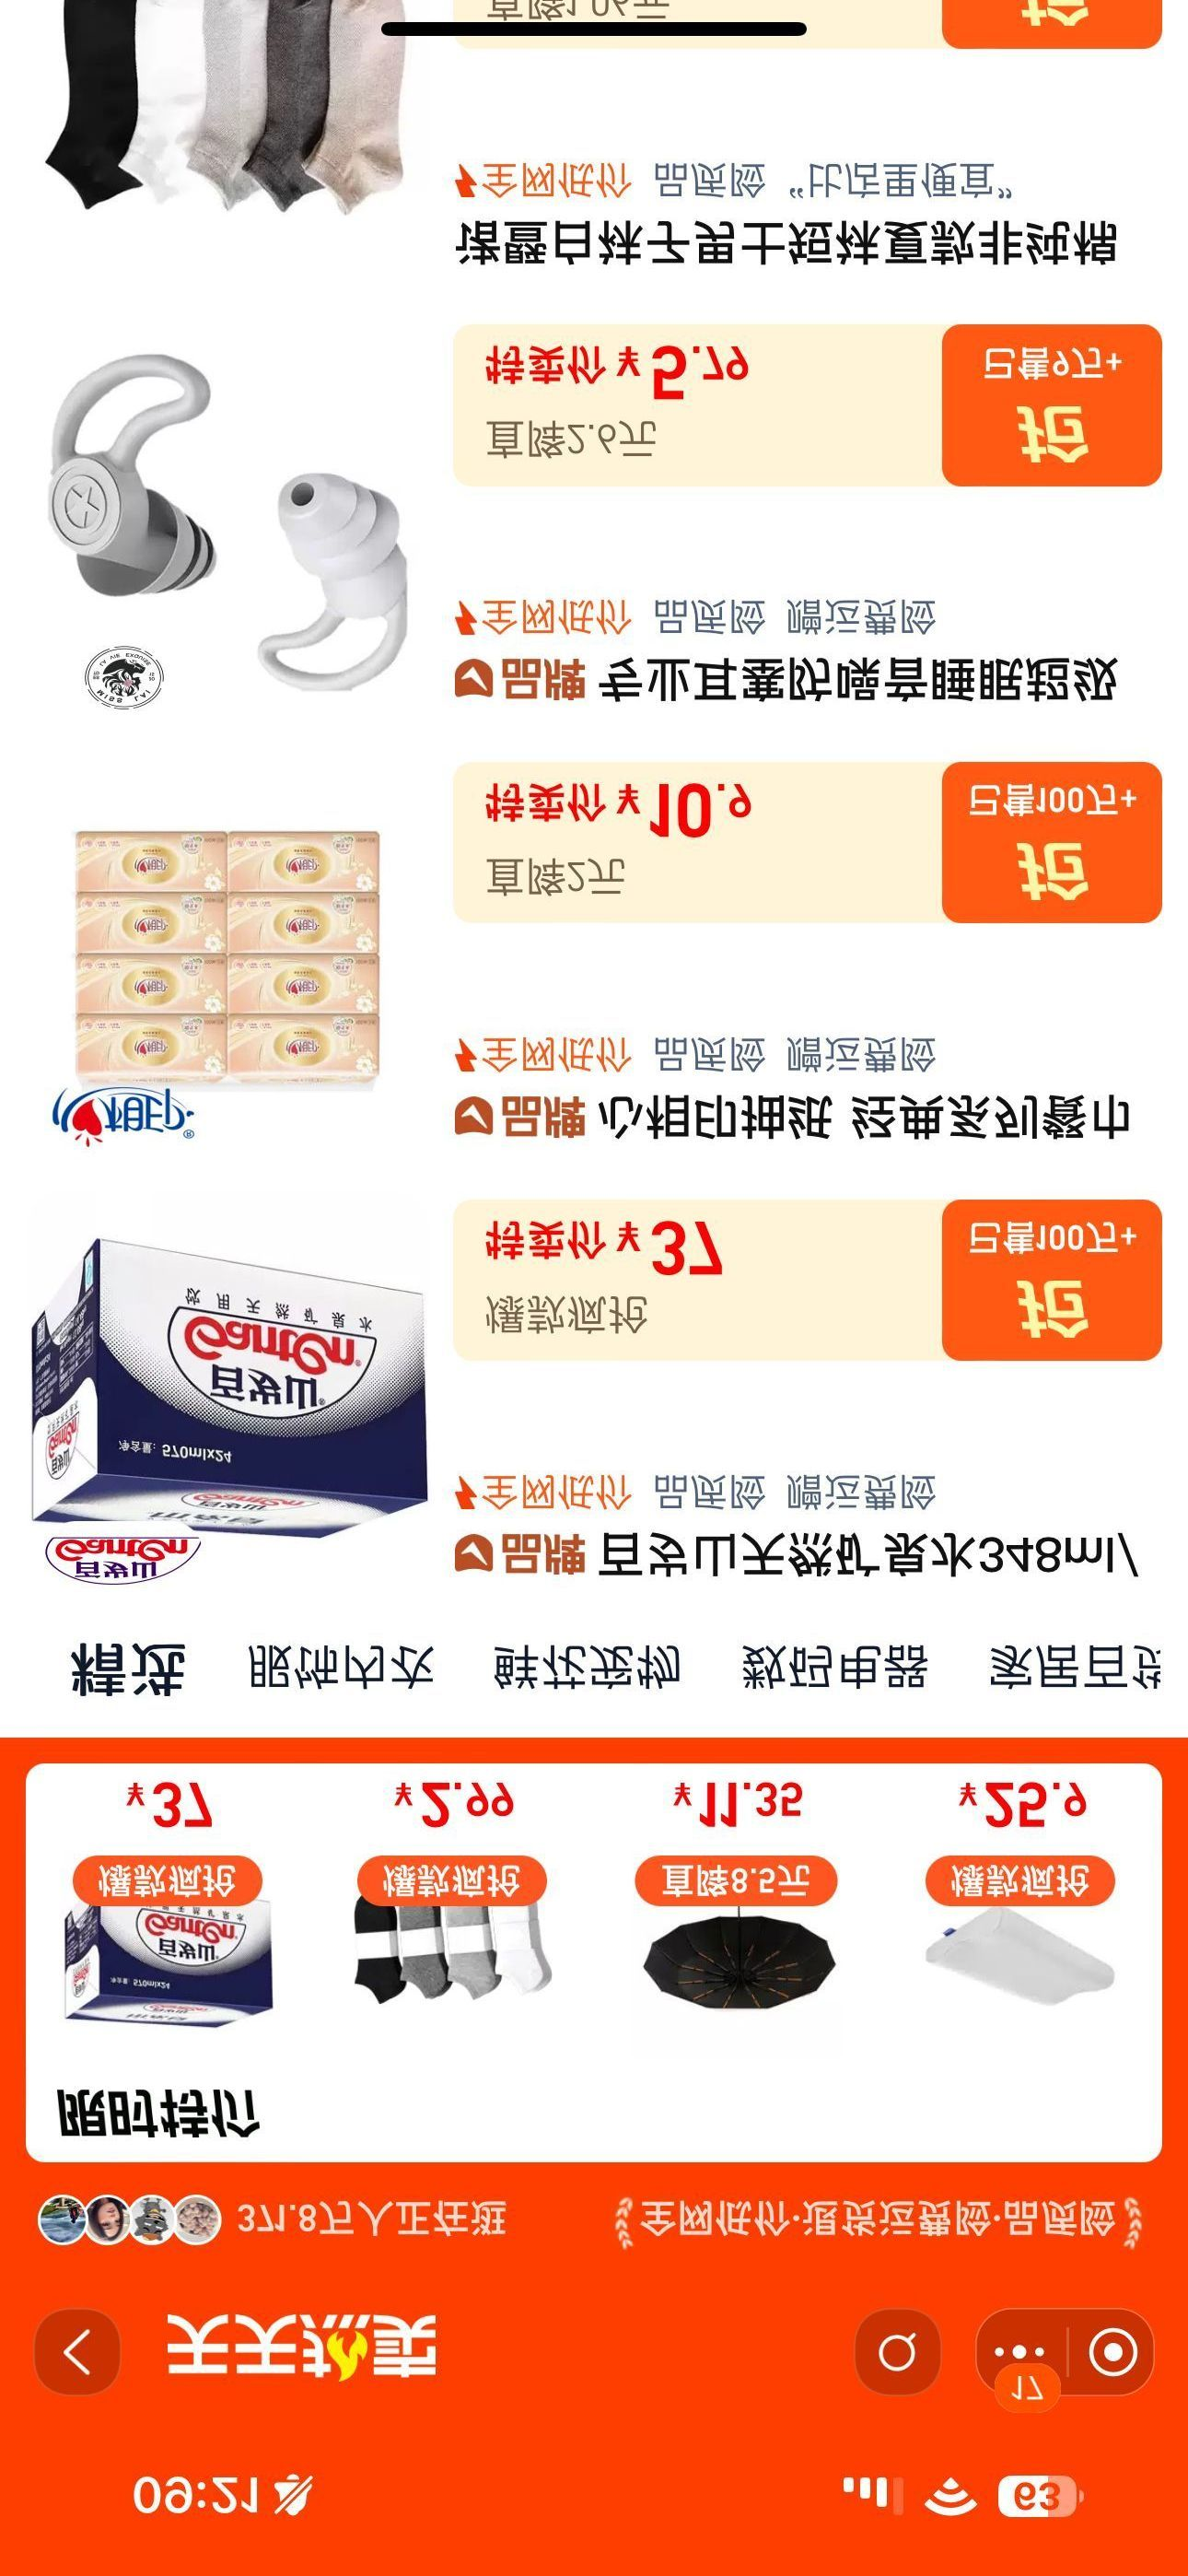item: (7, 1157, 1185, 1595), (3, 283, 1188, 711), (5, 724, 1185, 1148)
op_bar: (2, 2282, 1188, 2425)
seckill: (2, 1756, 1183, 2178)
